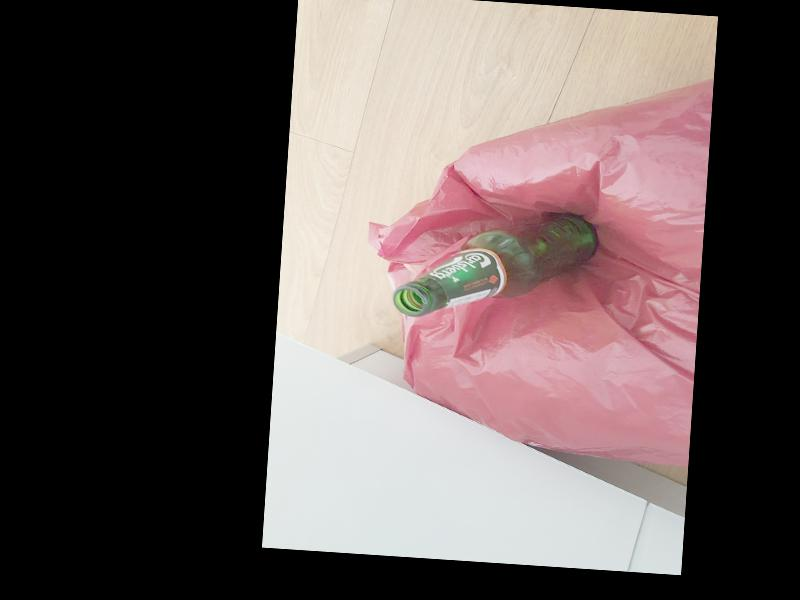Beer: (390, 200, 596, 327)
